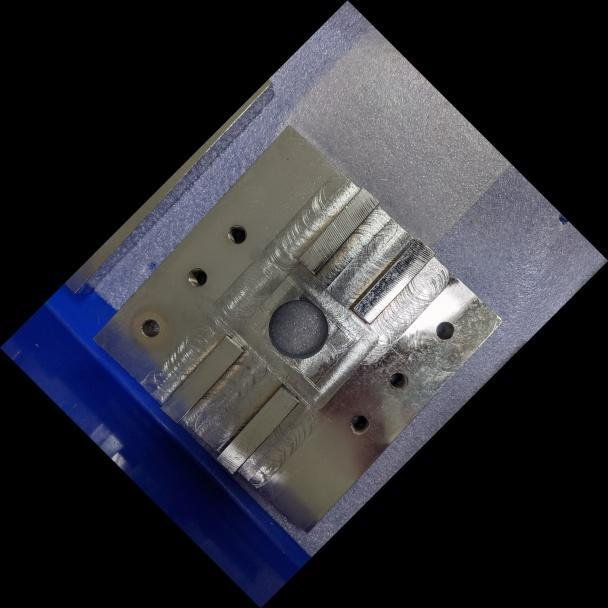hole: (424, 309, 466, 351), (132, 308, 171, 347), (339, 404, 378, 443), (178, 258, 216, 296), (378, 361, 416, 399), (216, 215, 254, 252)
